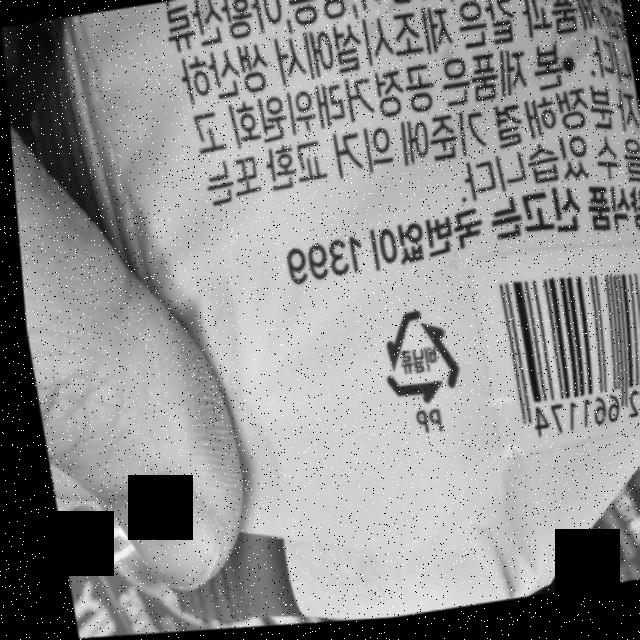Vinyl: (366, 304, 460, 418)
